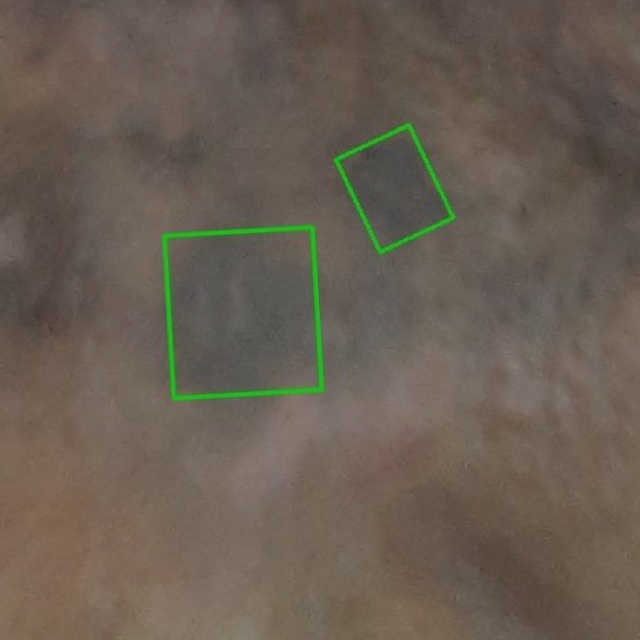Tinea Corporis: (164, 227, 322, 398), (336, 125, 452, 252)
